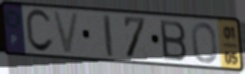7: (123, 16, 148, 60)
B: (158, 18, 189, 62)
C: (24, 7, 56, 55)
I: (101, 13, 115, 59)
O: (190, 21, 219, 66)
V: (51, 9, 82, 56)
